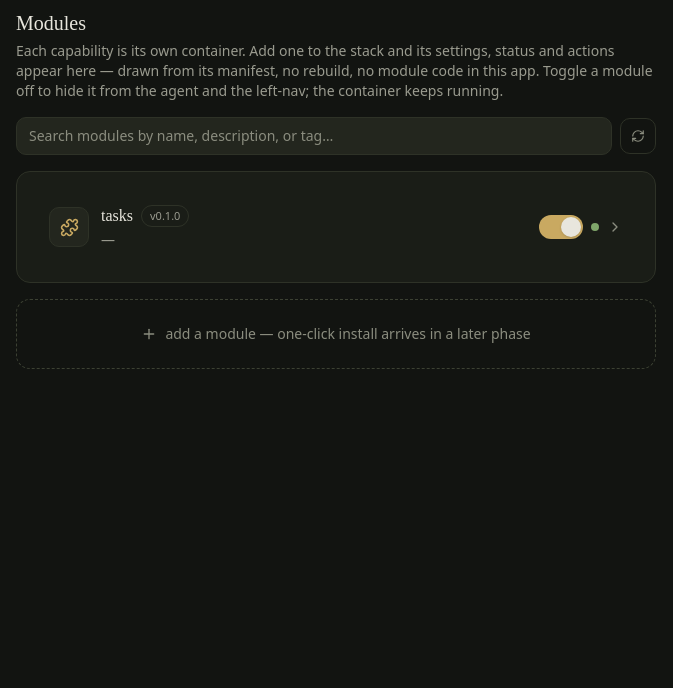
Test: ModulesScreen per-module provider removal (#764) › never offers removal for an account that isn't connected
What coordinates should you click on to do the following:
click the button named "expand"
I would click on:
 (615, 227)
Its box is [607,219,623,235].
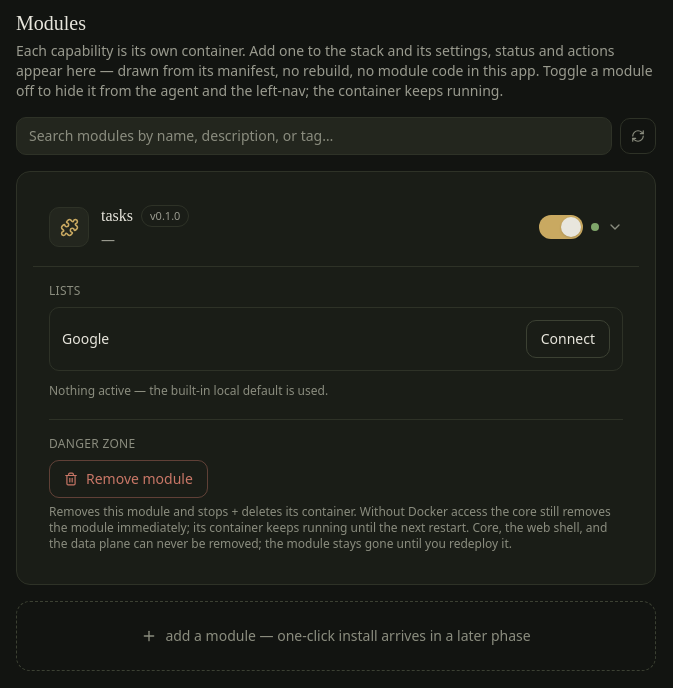
Expected: the button "Connect" is shown, [526,320,610,358]
